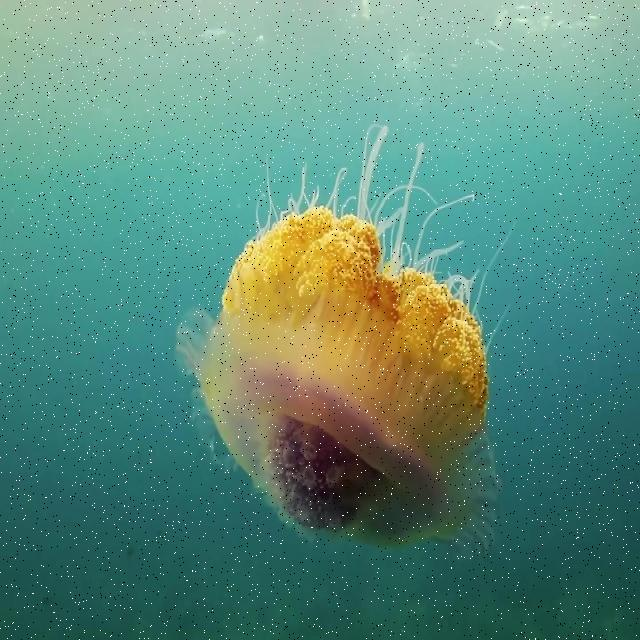reefs: (173, 124, 516, 560)
